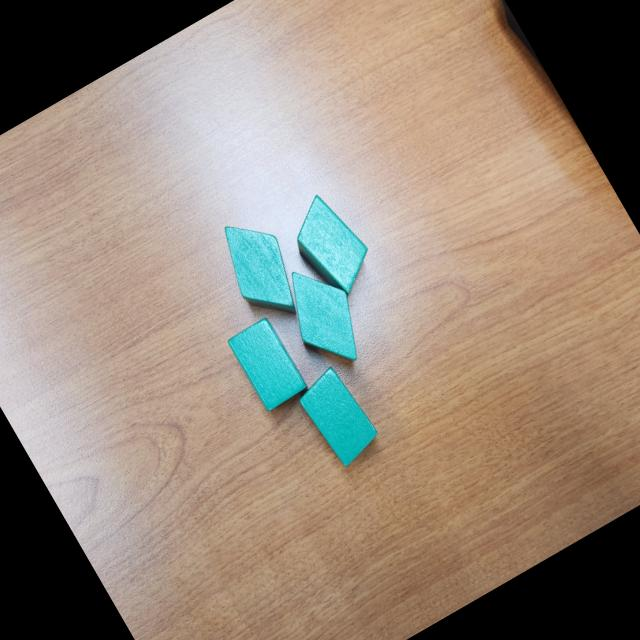green: (271, 252, 380, 378), (207, 205, 315, 332), (278, 185, 383, 305), (292, 361, 384, 468), (224, 314, 311, 414)
